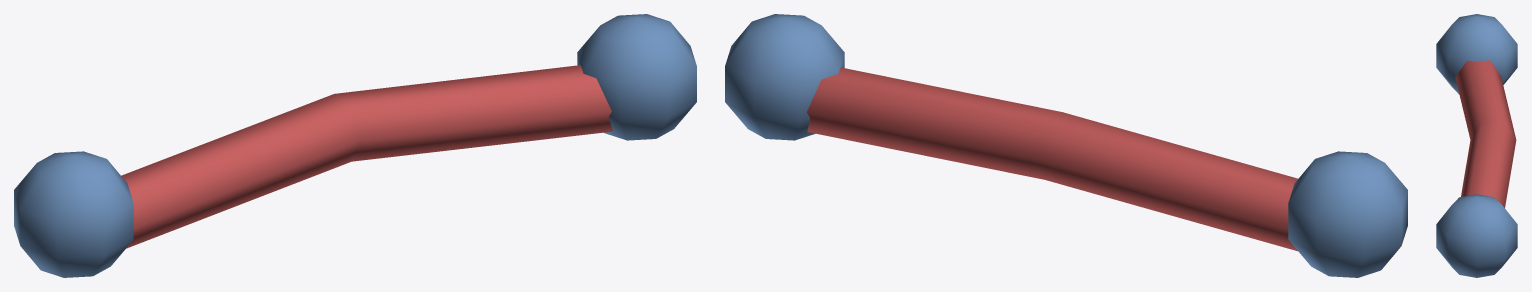
Rendered from dog_toy_rope.glb.
3 views of the same model, side by side, from view 1: azimuth 30°, elevation 25°; view 2: azimuth 150°, elevation 25°; view 3: azimuth 270°, elevation 25° (orthographic). The views are drawn at different scales.
Parts seen in each view (by area): view 1: dog_toy_rope; view 2: dog_toy_rope; view 3: dog_toy_rope.
Boxes of the visible parts, x1,y1,x2,y2 form: dog_toy_rope: (14, 14, 696, 277); dog_toy_rope: (725, 14, 1407, 277); dog_toy_rope: (1436, 14, 1517, 277).
Bounding box in the file's own units: 0.3095 × 0.052 × 0.0495.
